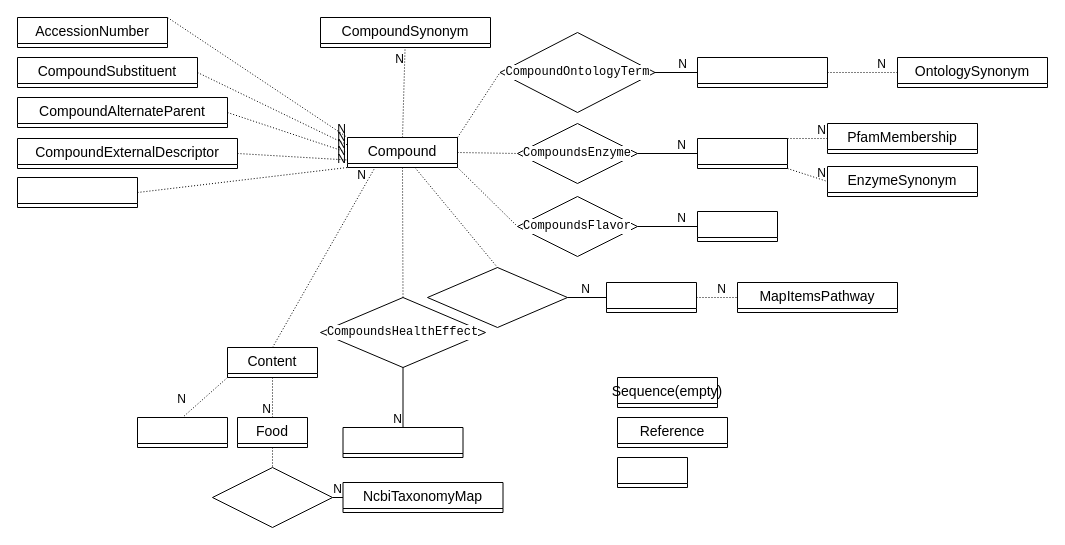
Image size: 1065x545. Some labels were removed from this diagram. Each missing label, with the centre of its shape:
CompoundsPathway: point (497, 297)
Enzyme: point (742, 153)
Flavor: point (737, 226)
FoodTaxonomy: point (272, 497)
HealthEffect: point (402, 442)
Nutrient: point (182, 432)
OntologyTerm: point (762, 72)
Pathway: point (651, 297)
PdbIdentifier: point (77, 192)
Pfam: point (652, 472)
